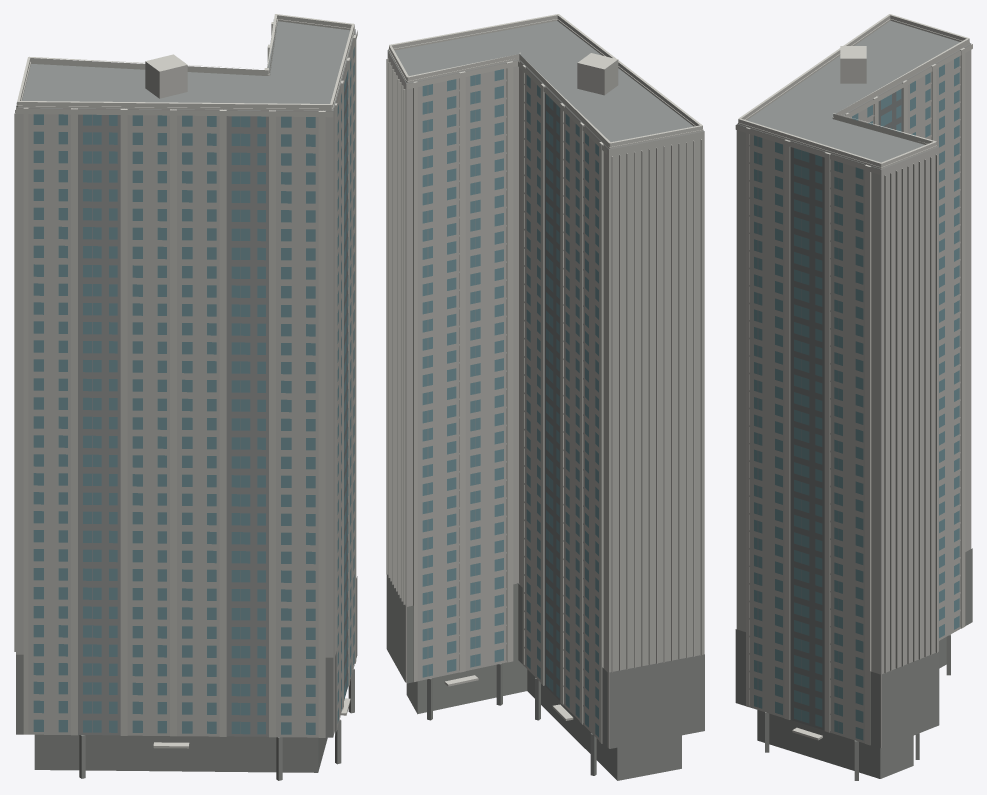
The model's file is maple-xi-104.glb.
3 renders of one model, left to right at view 1: azimuth 30°, elevation 25°; view 2: azimuth 150°, elevation 25°; view 3: azimuth 270°, elevation 25°, orthographic. The views are drawn at different scales.
Visible parts, largest first — view 1: maple-xi-104; view 2: maple-xi-104; view 3: maple-xi-104.
Part boxes in pixels (x1,y1,x2,y2): maple-xi-104: (14, 14, 357, 780); maple-xi-104: (386, 14, 704, 780); maple-xi-104: (735, 14, 972, 780).
Bounding box in the file's own units: 57.42 × 113 × 37.9.
